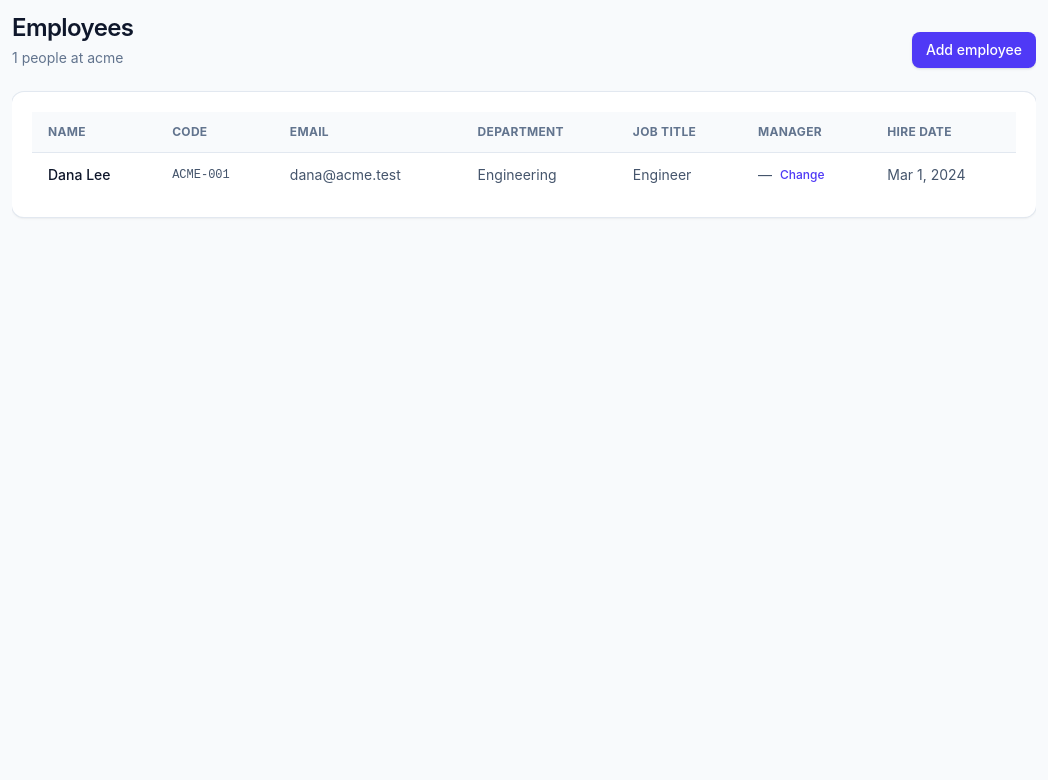
Test: EmployeesPage › shows the server's validation message next to the field
Click the button "Add employee". click: (974, 50)
box: [912, 32, 1036, 68]
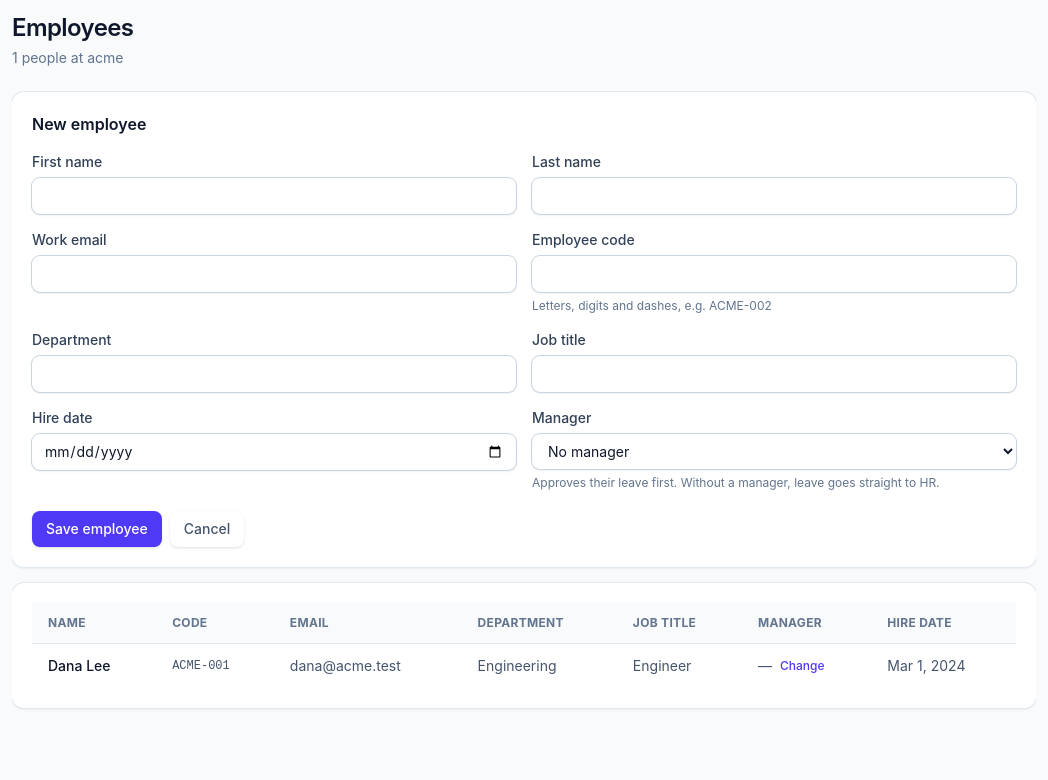
Type "Sam" into the field labelled "First name". click: (274, 196)
box: [32, 178, 516, 214]
Type "Park" into the field labelled "Last name". click: (774, 196)
box: [532, 178, 1016, 214]
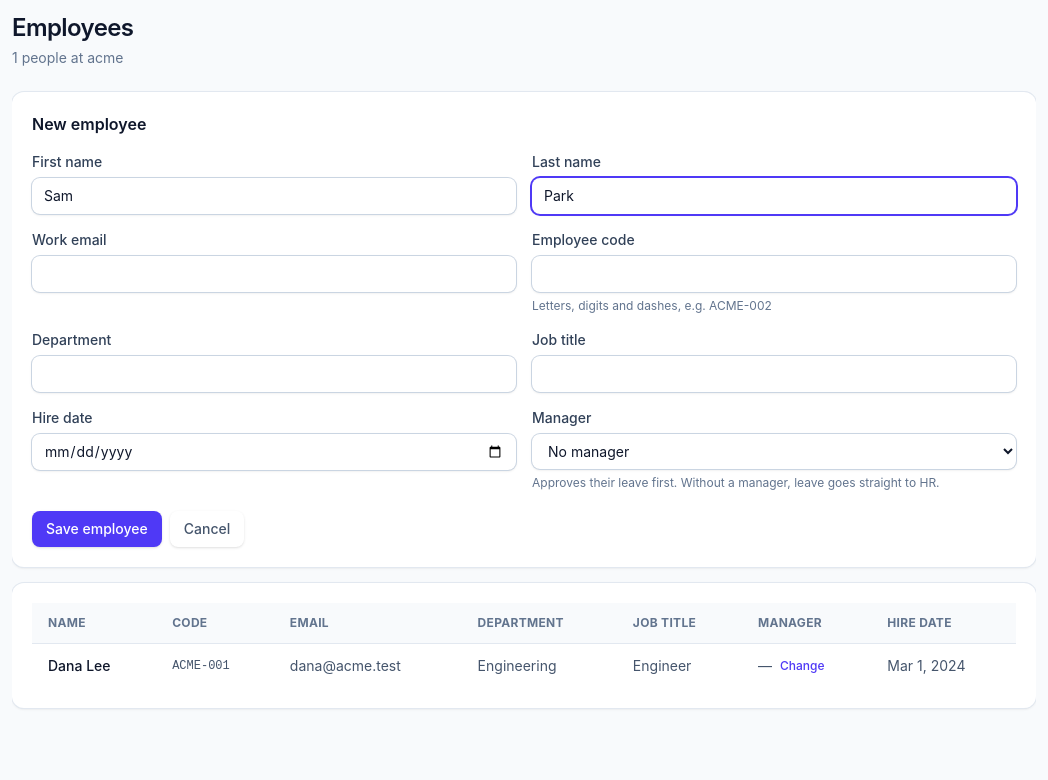
Type "sam@acme.test" into the field labelled "Work email". click: (274, 274)
box: [32, 256, 516, 292]
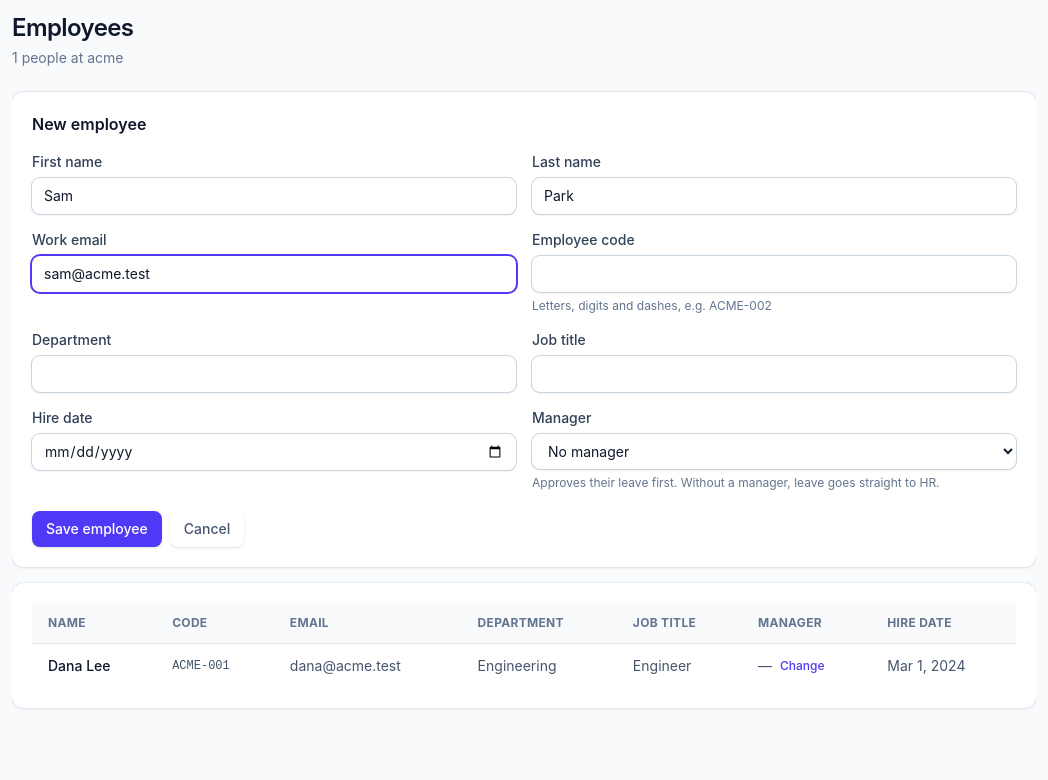
Type "acme-002" into the field labelled "Employee code". click: (774, 274)
box: [532, 256, 1016, 292]
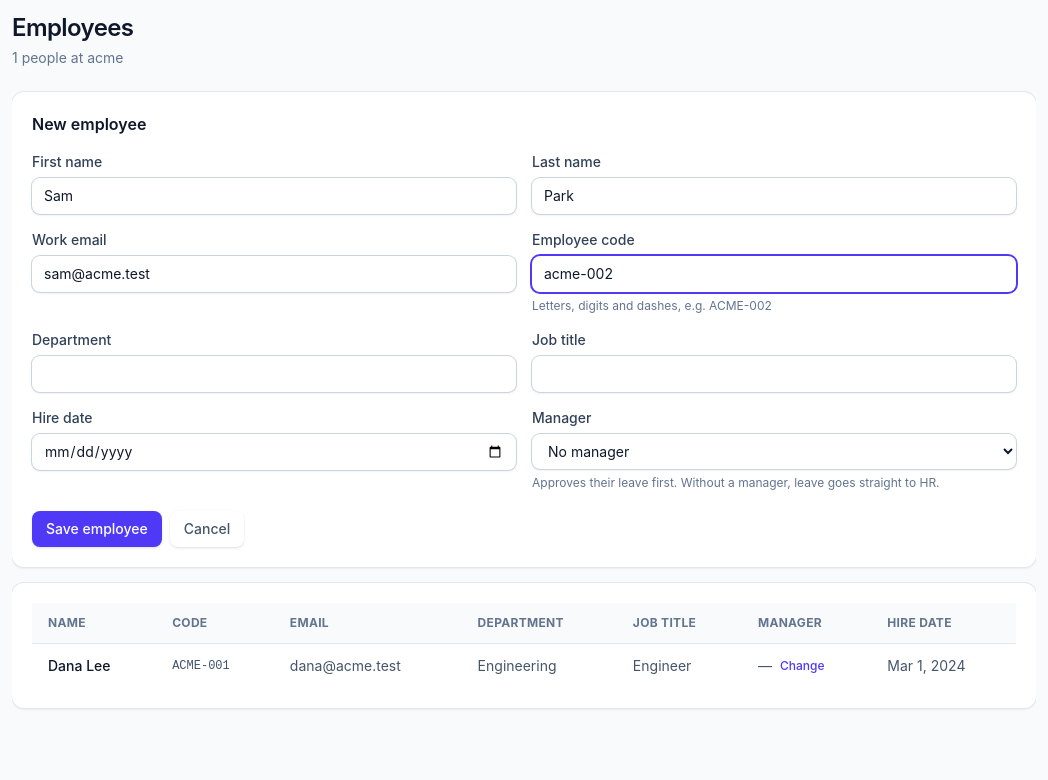
Type "2024-05-01" into the date field labelled "Hire date". click: (274, 452)
box: [32, 434, 516, 470]
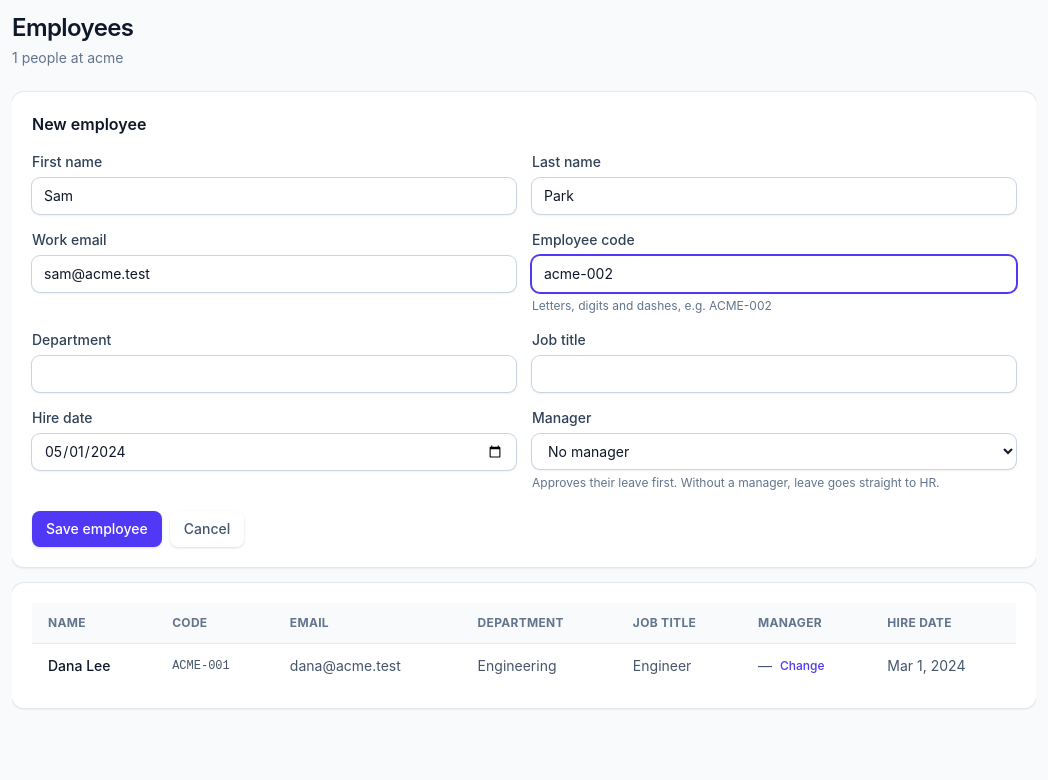
Click the button "Save employee". click: (97, 529)
box: [32, 511, 162, 547]
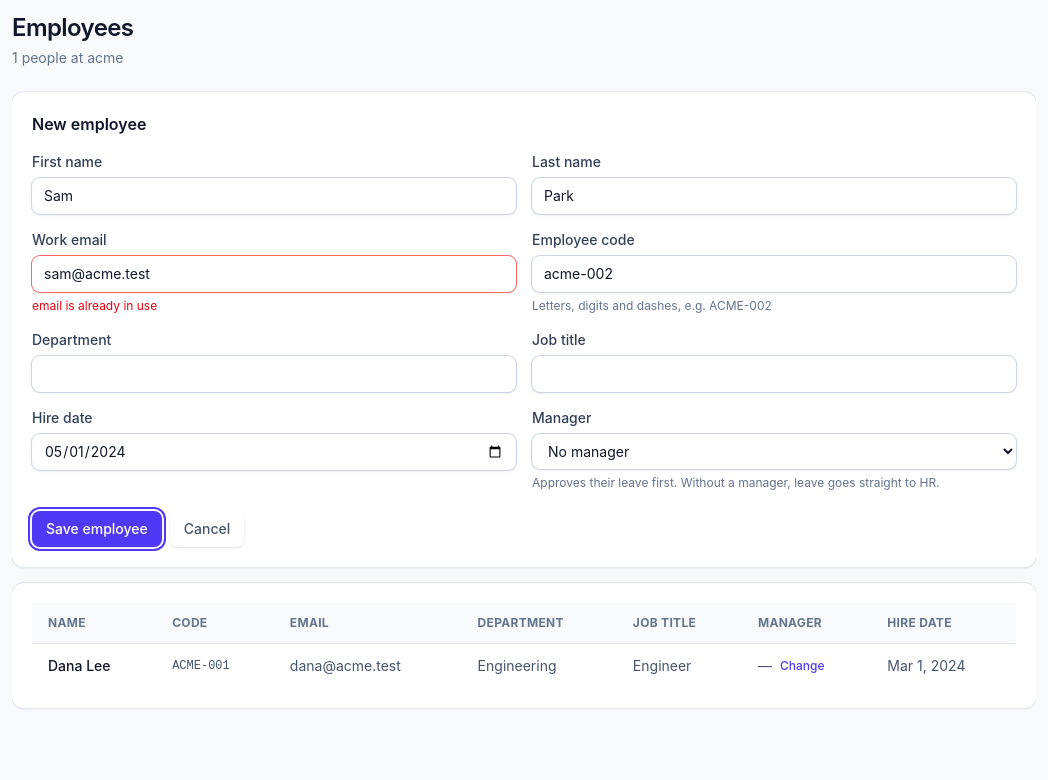
expect the text "email is already in use" is shown: met, box [32, 298, 157, 313]
